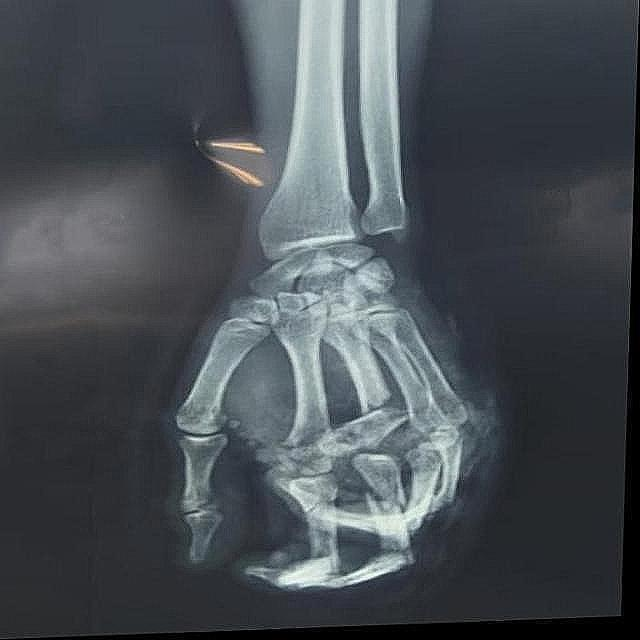bone: (330, 394, 418, 458), (356, 469, 424, 541)
